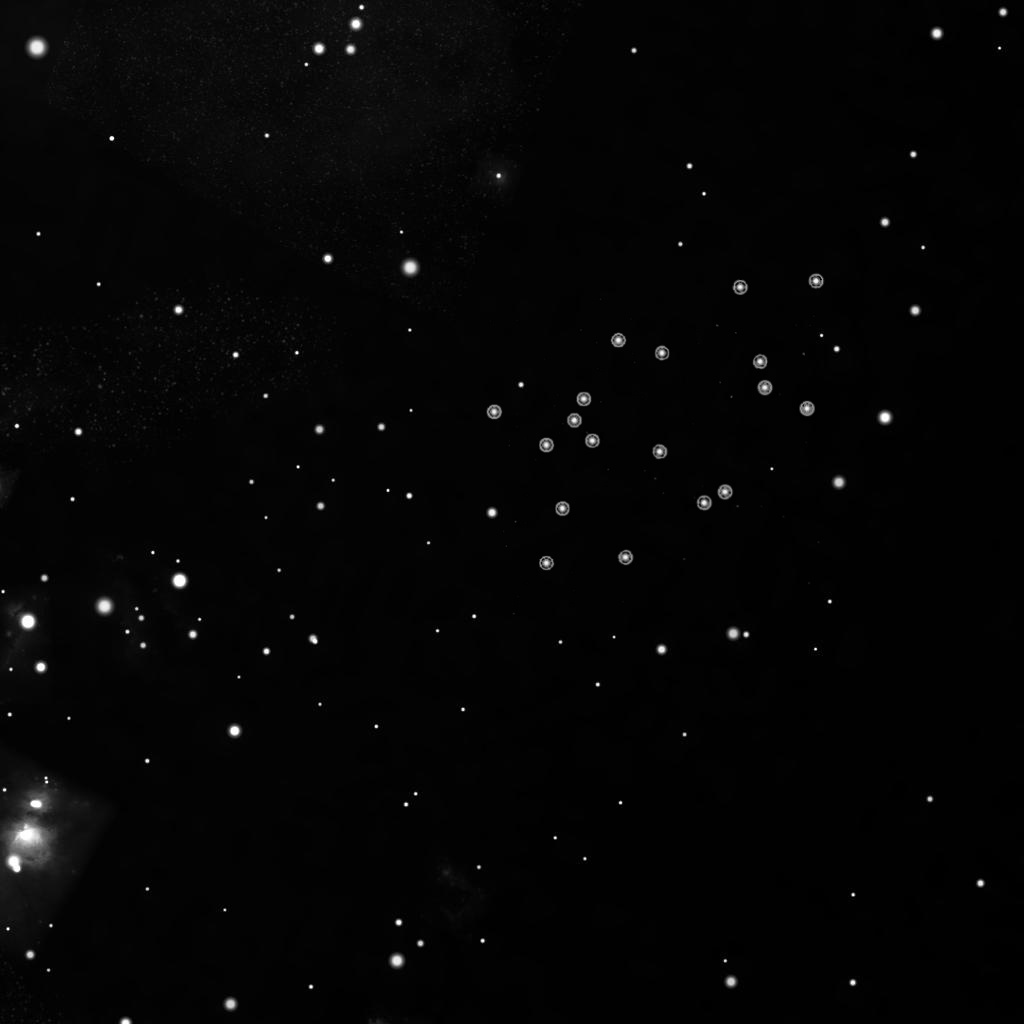canis_major: (534, 329, 671, 456)
